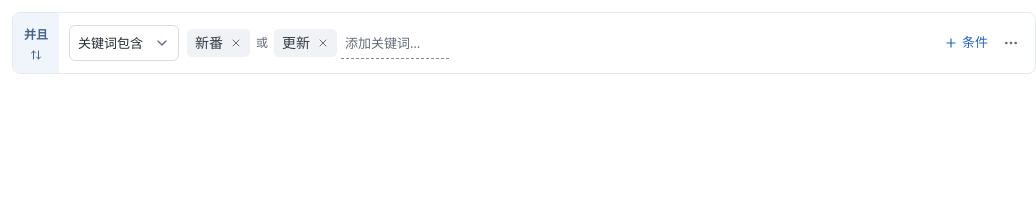
Scenario: ConditionGroupEditor › keeps values while toggling the whole group and changing keyword matching to a regex
What coordinates should you click on to do the following:
click the button with aria-label "当前为必须满足，点击切换为整组排除"
I would click on:
 (36, 43)
Its box is [13,13,59,73].
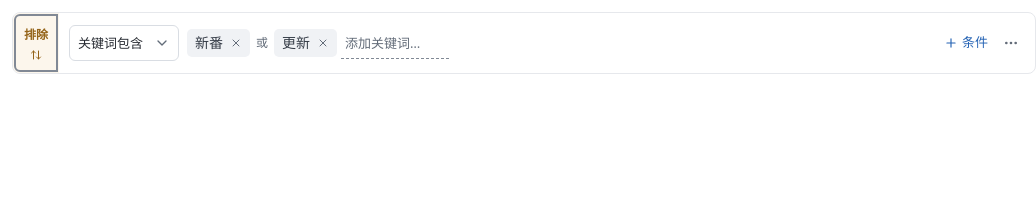
Expected: the text "新番" is shown, [195,31,223,55]
Expected: the text "更新" is shown, [282,31,310,55]
What coordinates should you click on to do the following:
click the dropdown named "消息内容匹配方式"
I would click on:
 (124, 43)
Its box is [69,25,179,61].
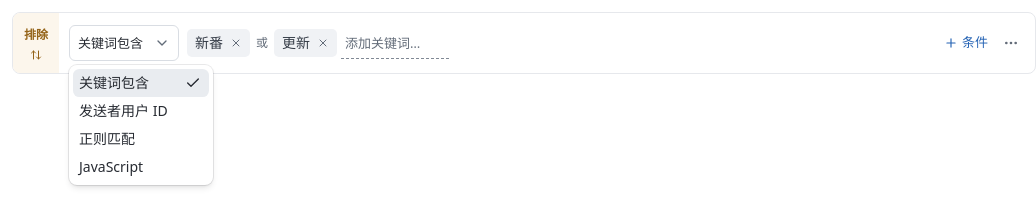
What coordinates should you click on to do the following:
click the option "正则匹配"
I would click on:
 (107, 138)
Its box is [79,129,135,148].
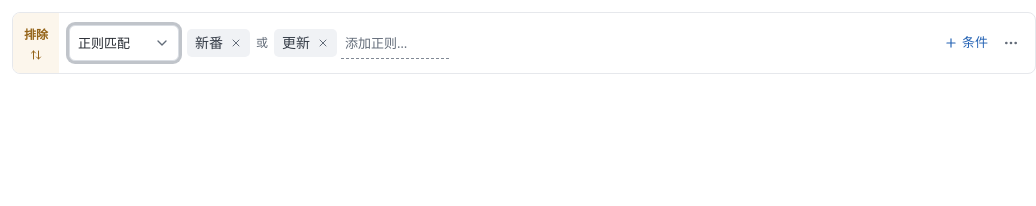
Expected: the text "新番" is shown, [195,31,223,55]
Now the field named "正则表达式" is shown, box [341,27,449,59]
